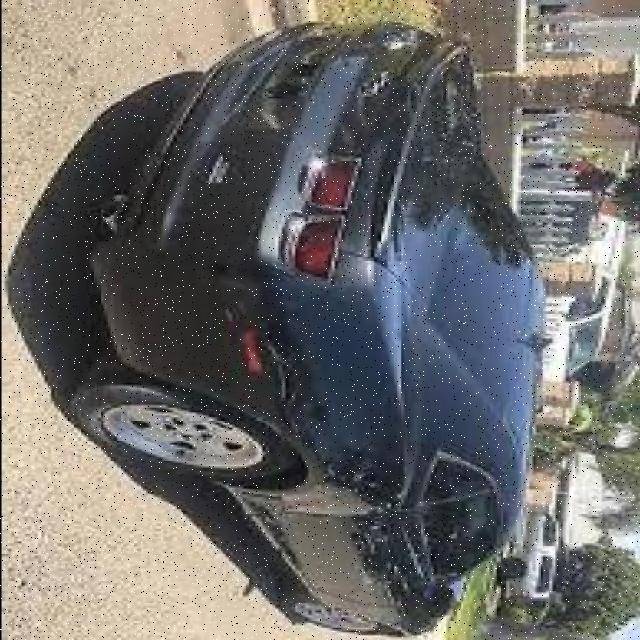damage: (228, 345, 390, 584)
